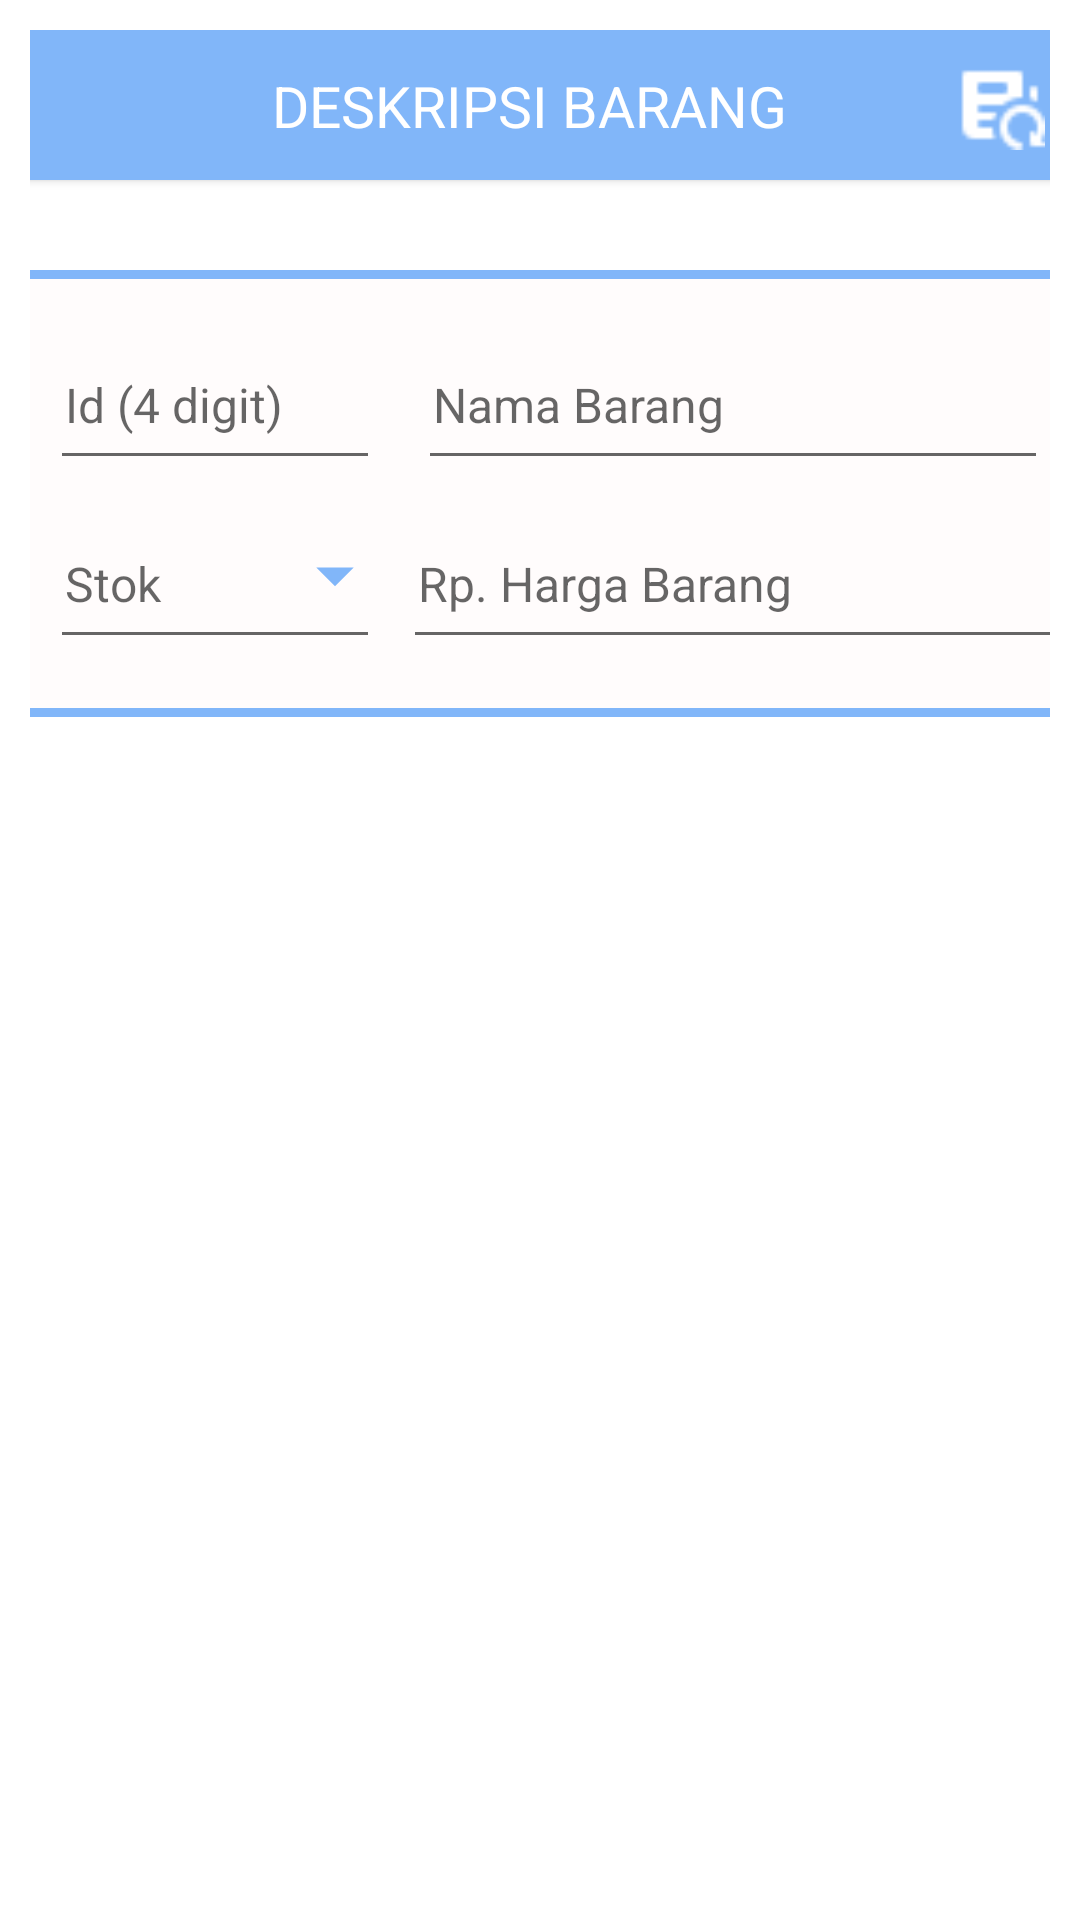

Named icons in this screenshot (1080 x 1920) and their bounding boxes, (x1, y1, x2, y2):
update: (961, 70, 1045, 150)
